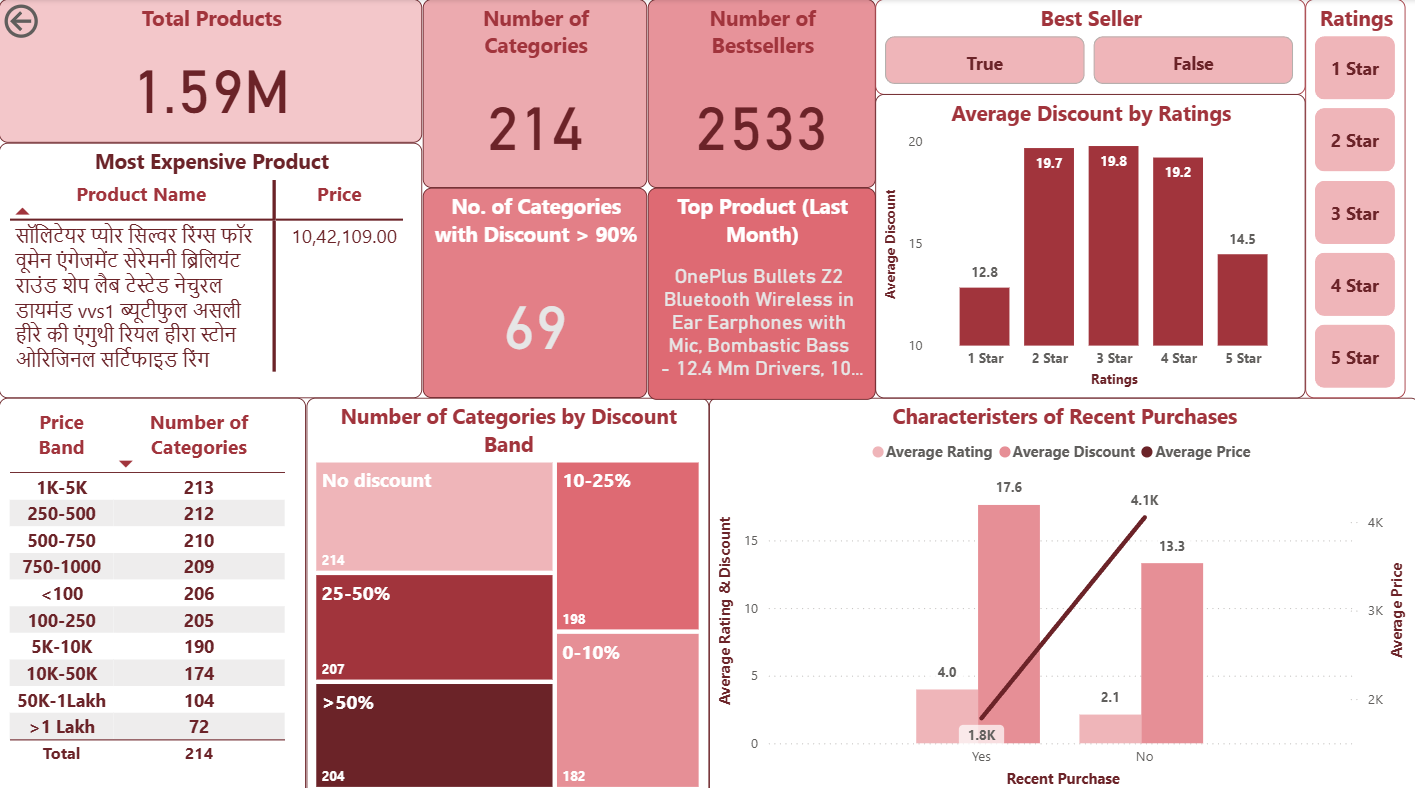

What the dashboard file says about the page in this screenshot:
{"tool":"powerbi","page":{"name":"Page 1","canvas":[1280,720],"ordinal":0},"visuals":[{"type":"card","title":"Number of Categories","fields":{"Values":["Count(amazon_clustered_data.categoryName)"]},"box":[382,0,202.6,170.6],"z":0},{"type":"card","title":"Total Products","fields":{"Values":["Count(amz_in_total_products_data_processed.asin)"]},"box":[0,0,382,129.7],"z":1000},{"type":"actionButton","box":[0,0,100,40],"z":2000},{"type":"tableEx","title":"Most Expensive Product","fields":{"Values":["amazon_clustered_data.title","Sum(amazon_clustered_data.price)"]},"box":[0,129.7,382,230.3],"z":3000},{"type":"card","title":"Number of Bestsellers","fields":{"Values":["CountNonNull(amazon_clustered_data.Product Name)"]},"box":[584.6,0,205.6,170.6],"z":4000},{"type":"tableEx","fields":{"Values":["amazon_clustered_data.price_band","amazon_clustered_data.categoryName"]},"box":[0,360.1,277,360.1],"z":5000},{"type":"card","title":"No. of Categories with Discount > 90%","fields":{"Values":["Count(amazon_clustered_data.categoryName)"]},"box":[382,170.6,202.6,189.5],"z":6000},{"type":"treemap","title":"Number of Categories by Discount Band","fields":{"Group":["amazon_clustered_data.discount_band"],"Values":["Count(amazon_clustered_data.categoryName)"]},"box":[277,360.1,363,360.1],"z":7000},{"type":"lineClusteredColumnComboChart","title":"Characteristers of Recent Purchases","fields":{"Category":["recent_sales_category_summary.recent_purchase"],"Y":["Avg(recent_sales_category_summary.avg_rating)","Avg(recent_sales_category_summary.avg_discount)"],"Y2":["Avg(recent_sales_category_summary.avg_price)"]},"box":[640,360.1,640,360.1],"z":8000},{"type":"advancedSlicerVisual","fields":{"Values":["amz_in_total_products_data_processed.isBestSeller"]},"box":[790.2,0,387.8,86],"z":9000},{"type":"advancedSlicerVisual","fields":{"Values":["amazon_clustered_data.Ratings"]},"box":[1177.9,0,90.4,360.1],"z":10000},{"type":"clusteredColumnChart","title":"Average Discount by Ratings","fields":{"Category":["amazon_clustered_data.Ratings"],"Y":["Avg(amazon_clustered_data.discount_pct)"]},"box":[790.2,86,387.8,274.1],"z":11000},{"type":"card","title":"Top Product (Last Month)","fields":{"Values":["Min(amazon_clustered_data.Product Name)"]},"box":[584.6,170.6,205.6,191],"z":11001}]}

Visuals, with their boxes in screenshot pixels (x1, y1, x2, y2), scaled from the page's 1280x720 canvas onto the 1415x788 screenshot:
"Number of Categories" card: (422, 0, 646, 187)
"Total Products" card: (0, 0, 422, 142)
actionButton: (0, 0, 111, 44)
"Most Expensive Product" tableEx: (0, 142, 422, 394)
"Number of Bestsellers" card: (646, 0, 874, 187)
tableEx - amazon_clustered_data.price_band x amazon_clustered_data.categoryName: (0, 394, 306, 787)
"No. of Categories with Discount > 90%" card: (422, 187, 646, 394)
"Number of Categories by Discount Band" treemap: (306, 394, 708, 787)
"Characteristers of Recent Purchases" lineClusteredColumnComboChart: (708, 394, 1414, 787)
advancedSlicerVisual - amz_in_total_products_data_processed.isBestSeller: (874, 0, 1302, 94)
advancedSlicerVisual - amazon_clustered_data.Ratings: (1302, 0, 1402, 394)
"Average Discount by Ratings" clusteredColumnChart: (874, 94, 1302, 394)
"Top Product (Last Month)" card: (646, 187, 874, 396)
